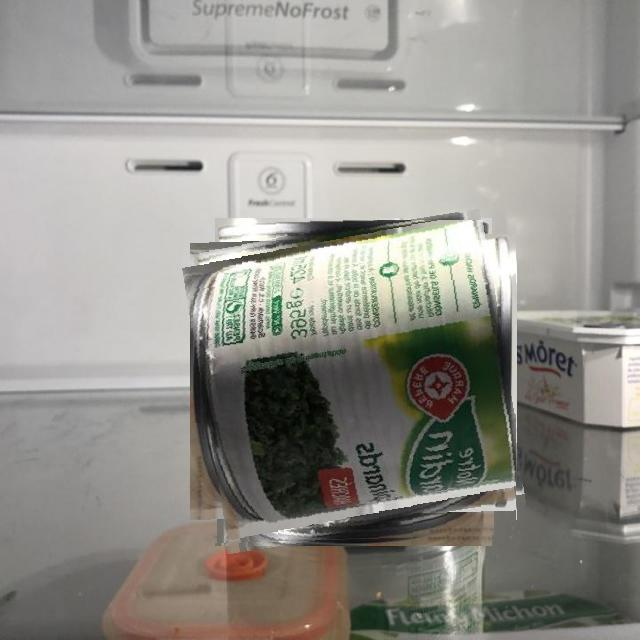recyclable: (191, 220, 516, 544)
